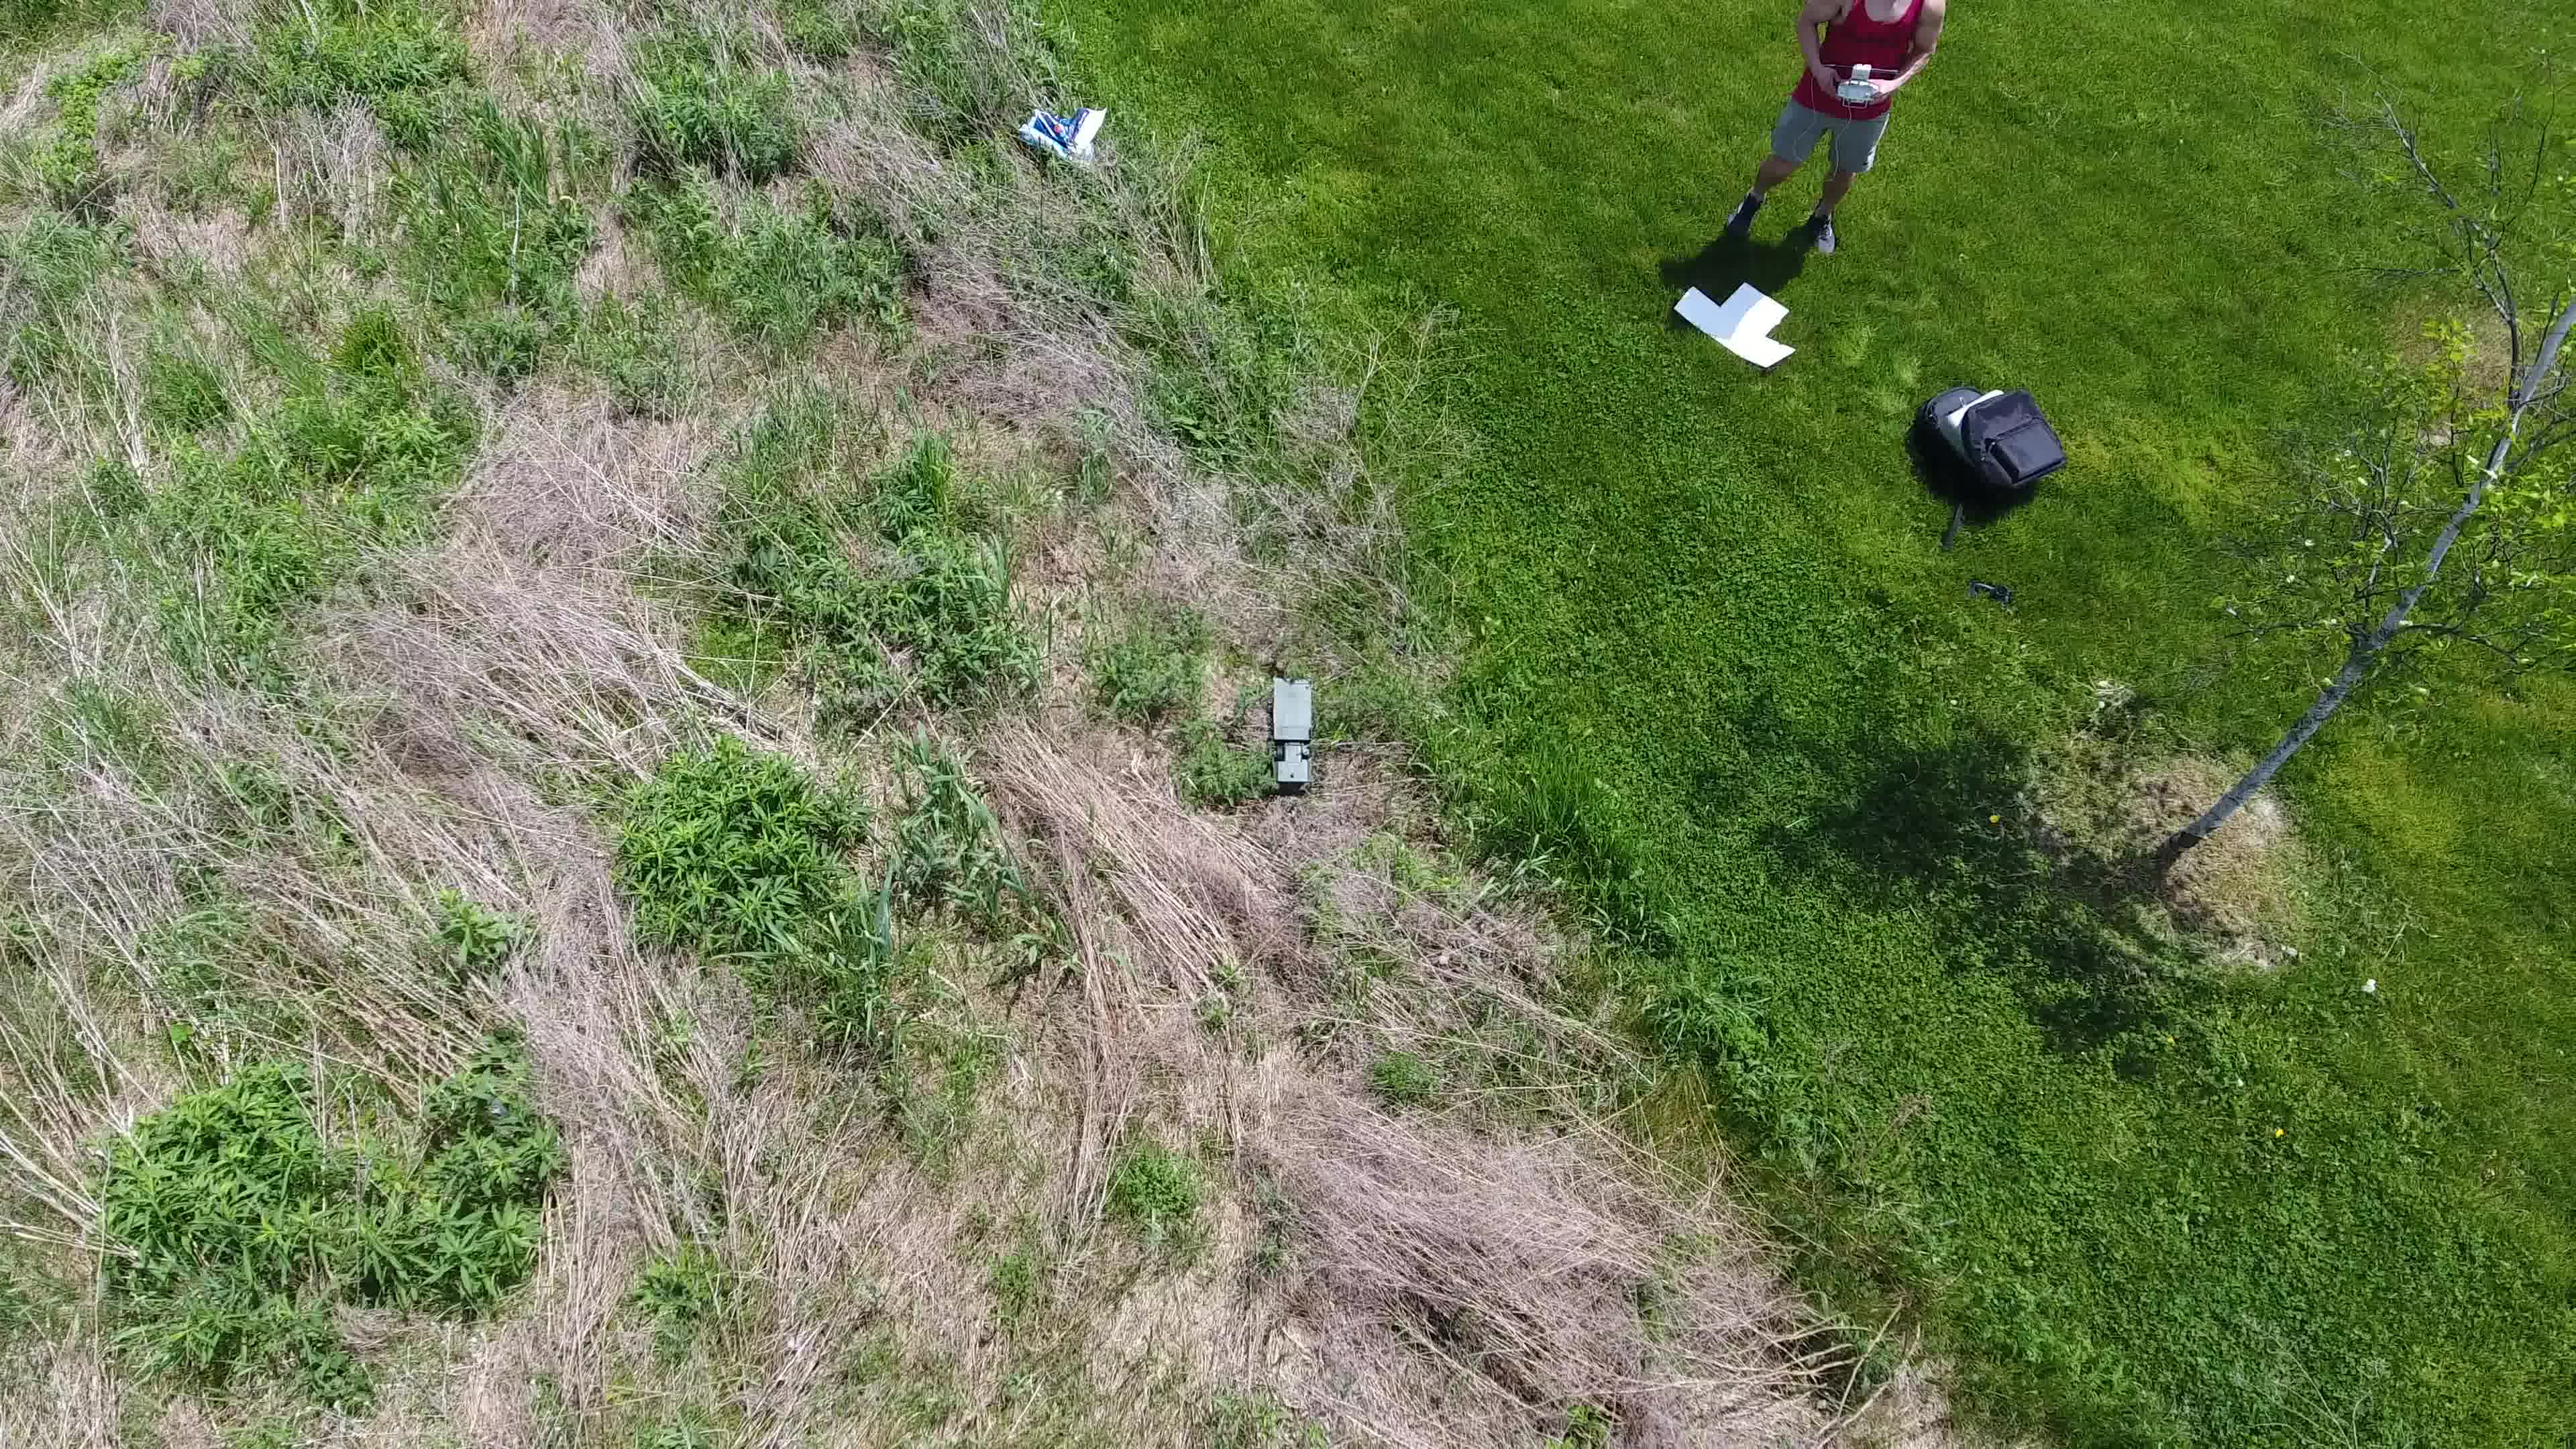transporter9: (1265, 672, 1318, 791)
